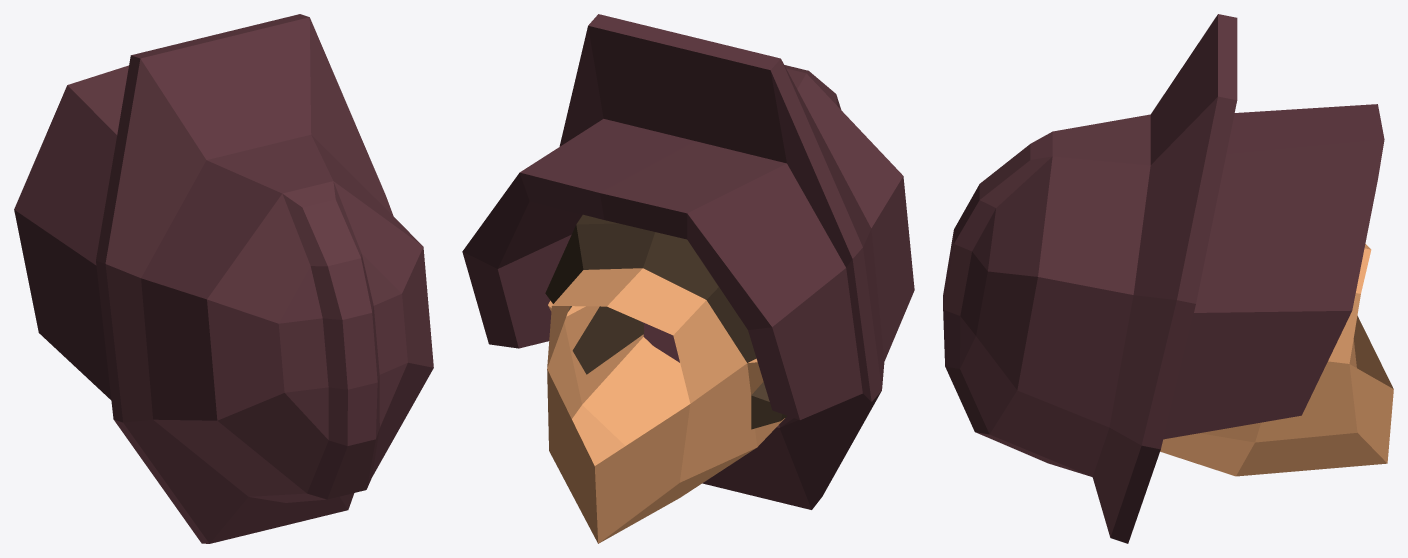
The model's file is head_fire.fbx.
3 views of the same model, side by side, from view 1: azimuth 30°, elevation 25°; view 2: azimuth 150°, elevation 25°; view 3: azimuth 270°, elevation 25° (orthographic). The views are drawn at different scales.
Visible parts, largest first — view 1: man-fire; view 2: man-fire; view 3: man-fire.
Part boxes in pixels (x1,y1,x2,y2): man-fire: [14, 14, 433, 543]; man-fire: [462, 14, 914, 543]; man-fire: [943, 14, 1393, 543].
Bounding box in the file's own units: 245 × 370 × 332.
